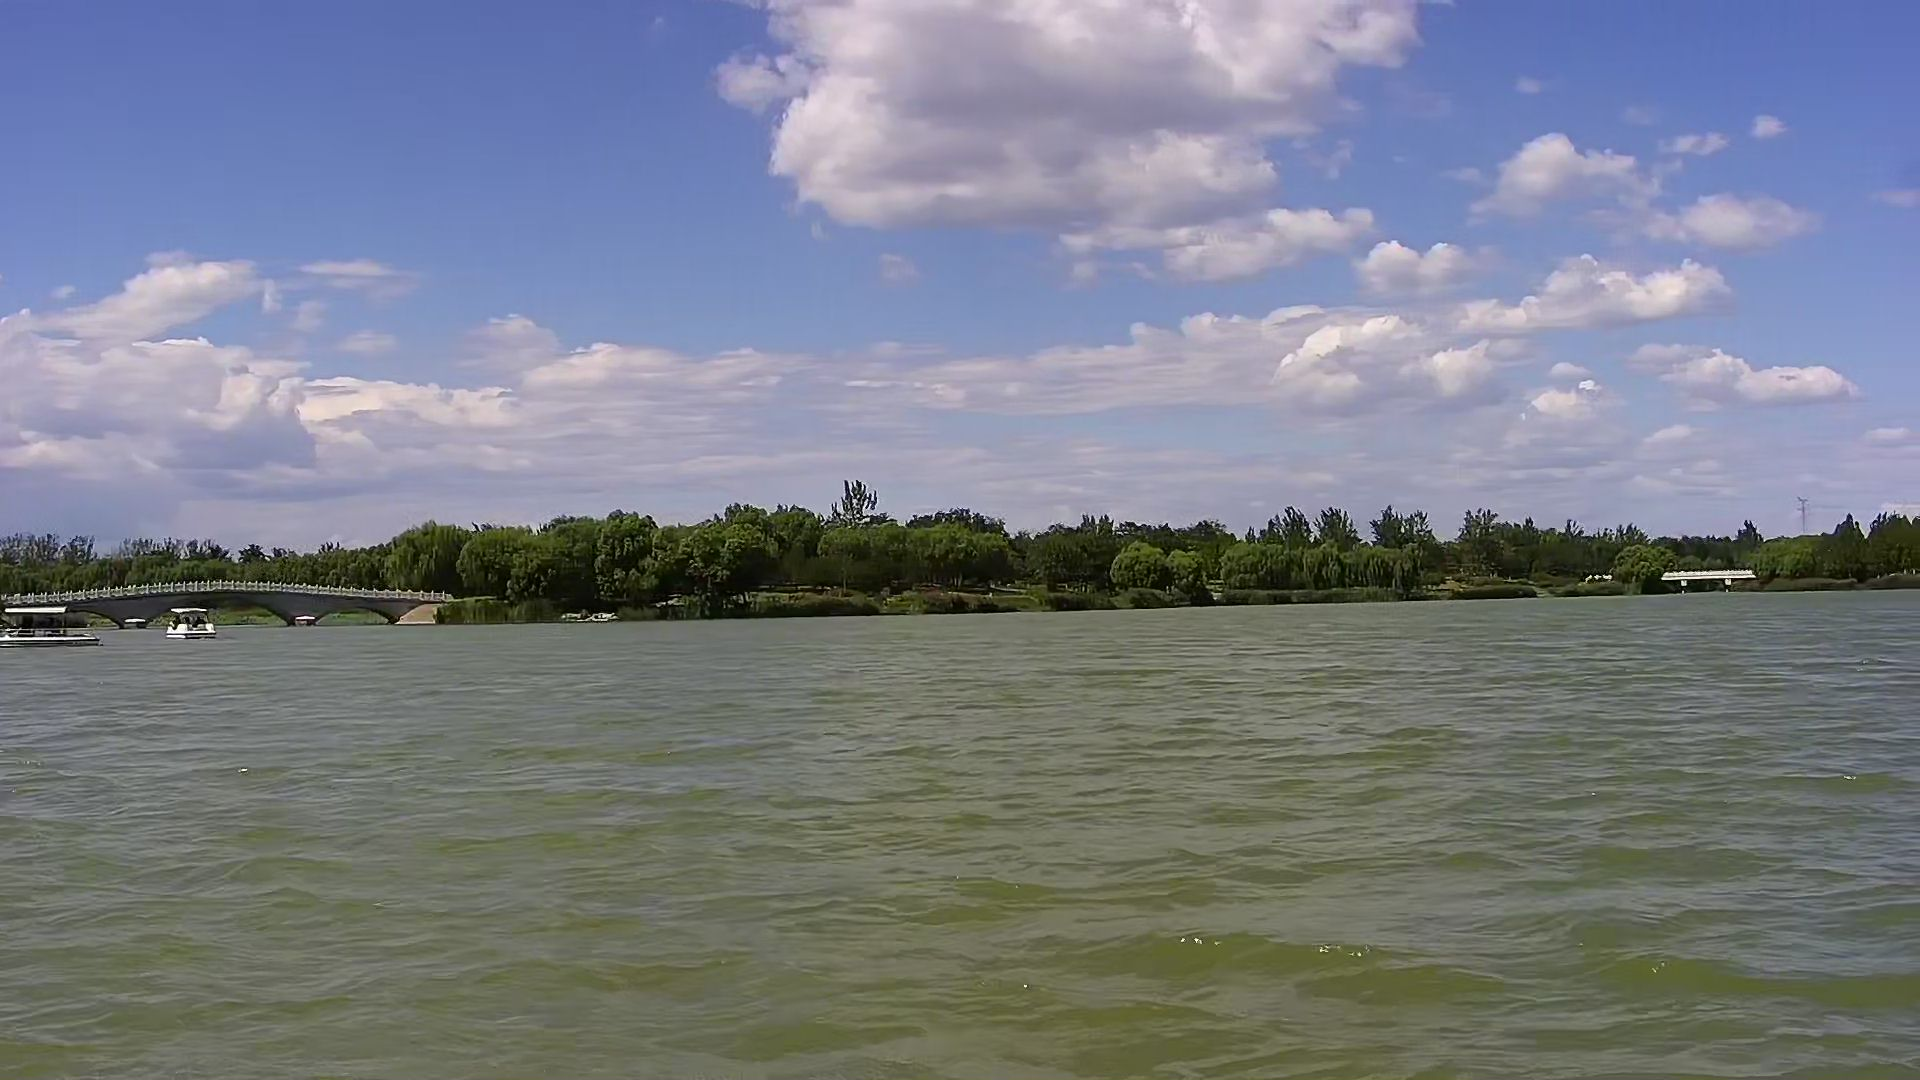boat: (4, 603, 100, 651), (164, 600, 227, 640)
bridge: (1, 578, 448, 632), (1656, 560, 1763, 592)
